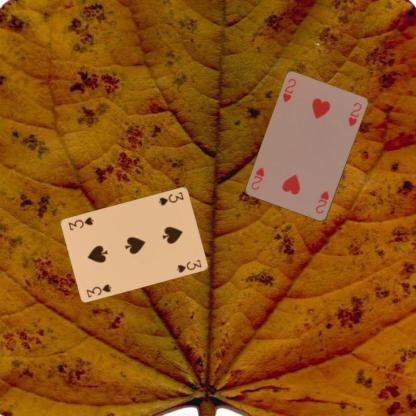2h: (280, 76, 298, 104), (313, 188, 331, 215)
3s: (156, 189, 185, 207), (84, 281, 112, 299)
